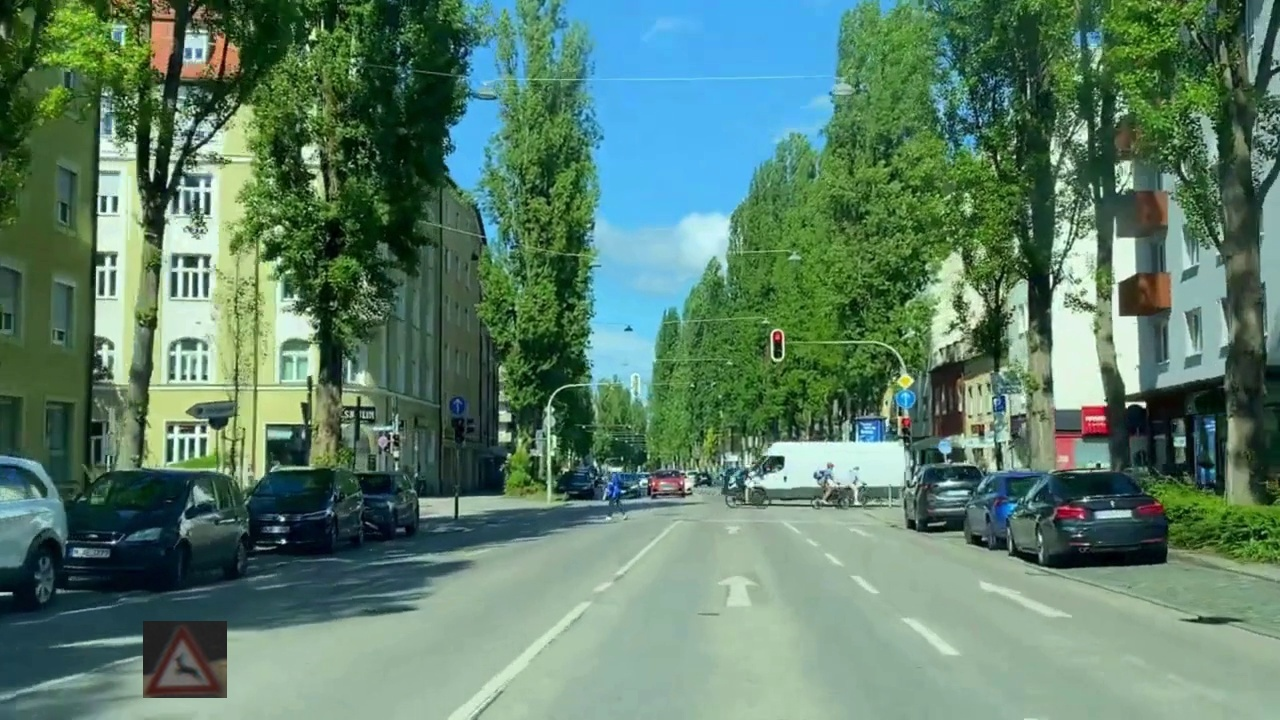Wild animals: (143, 621, 227, 698)
